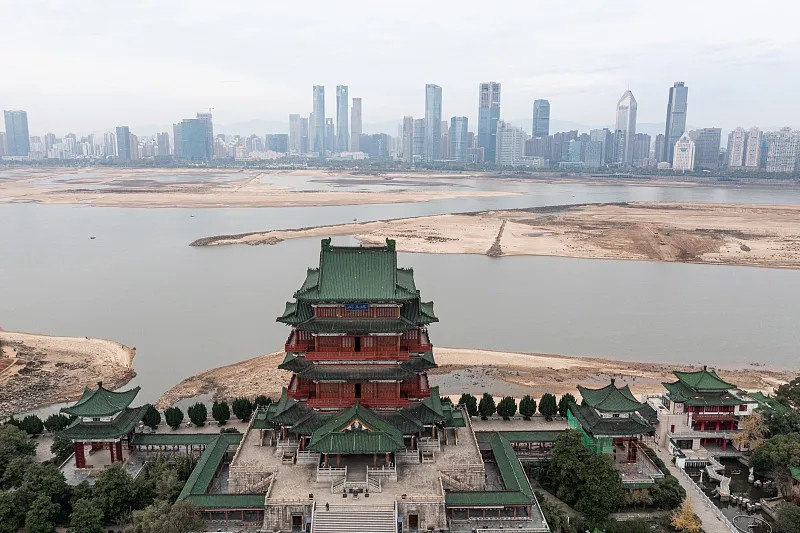Teng: (250, 236, 466, 471)
